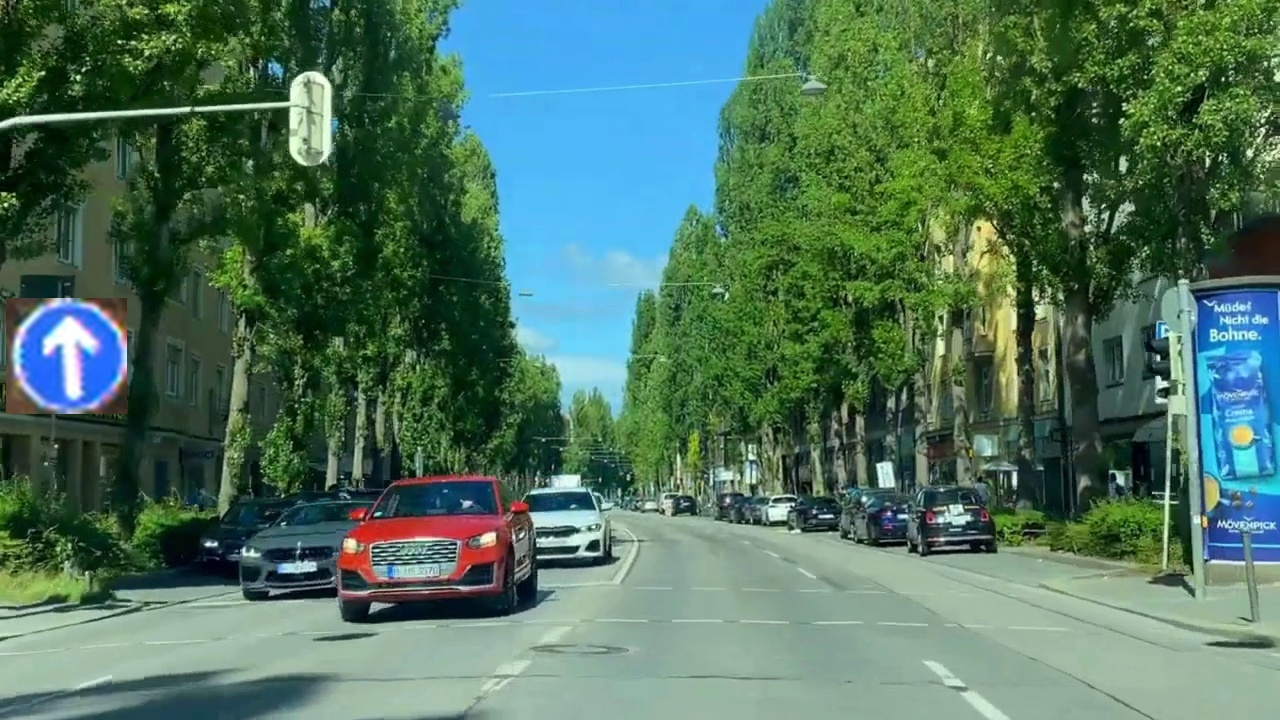Ahead only: (6, 298, 127, 414)
